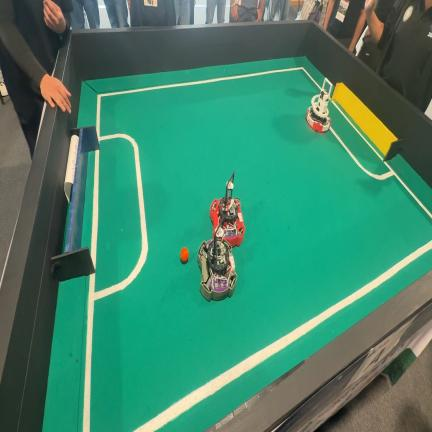cancha: (43, 59, 432, 432)
limites: (83, 67, 319, 432), (134, 240, 432, 432), (330, 102, 432, 219), (90, 150, 99, 270)
pelota: (180, 248, 189, 264)
porteria: (51, 126, 99, 281), (332, 82, 402, 160)
robot: (197, 224, 237, 301), (210, 172, 245, 246), (306, 78, 332, 133)
